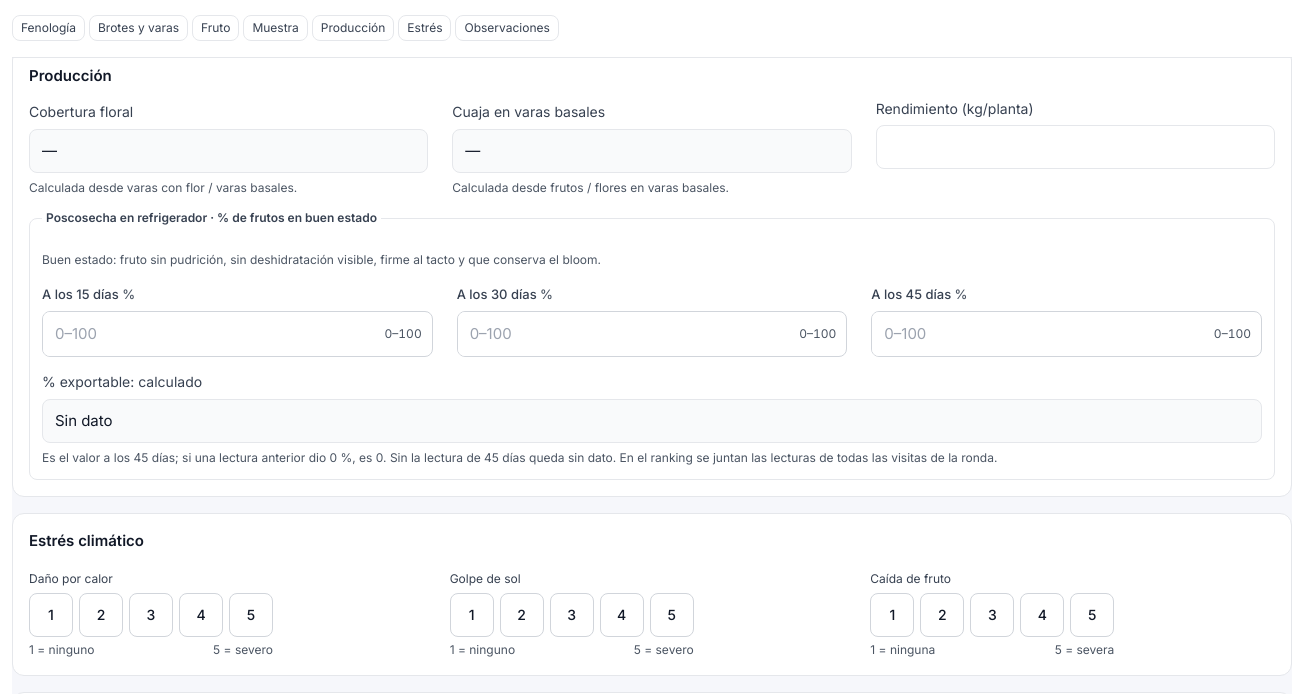
Test case: poscosecha: tres lecturas, el texto de «buen estado» y el exportable calculado (sin dato hasta los 45 días)
(page scrolled)
Expected: the text "Buen estado: fruto sin pudrición, sin deshidratación visible, firme al tacto y que conserva el bloom." is shown, x1=42 y1=252 x2=601 y2=267
Expected: the text "Sin dato" is shown, x1=42 y1=399 x2=1262 y2=443
Type "90" into the number field labelled "A los 15 días %". click: x=209, y=334
box: x1=43 y1=312 x2=374 y2=356
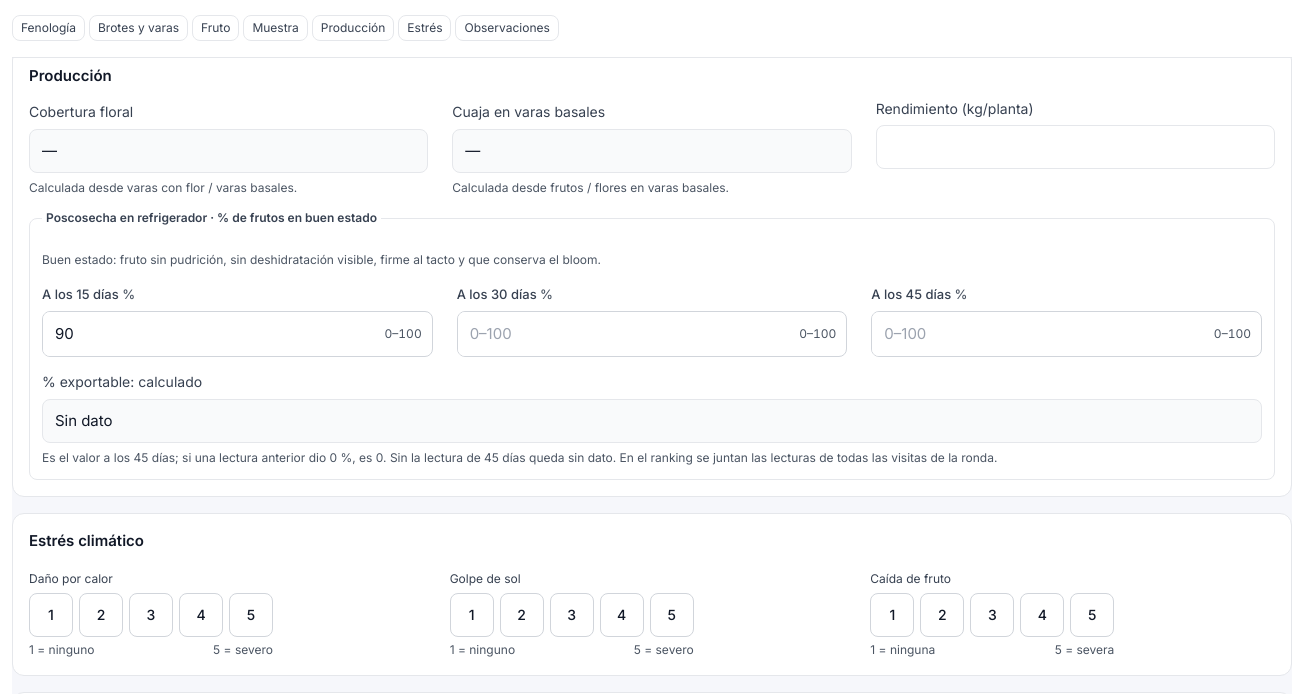
Expected: the text "Sin dato" is shown, x1=42 y1=399 x2=1262 y2=443
Type "72.5" into the number field labelled "A los 45 días %". click: x=1038, y=334
box: x1=872 y1=312 x2=1204 y2=356
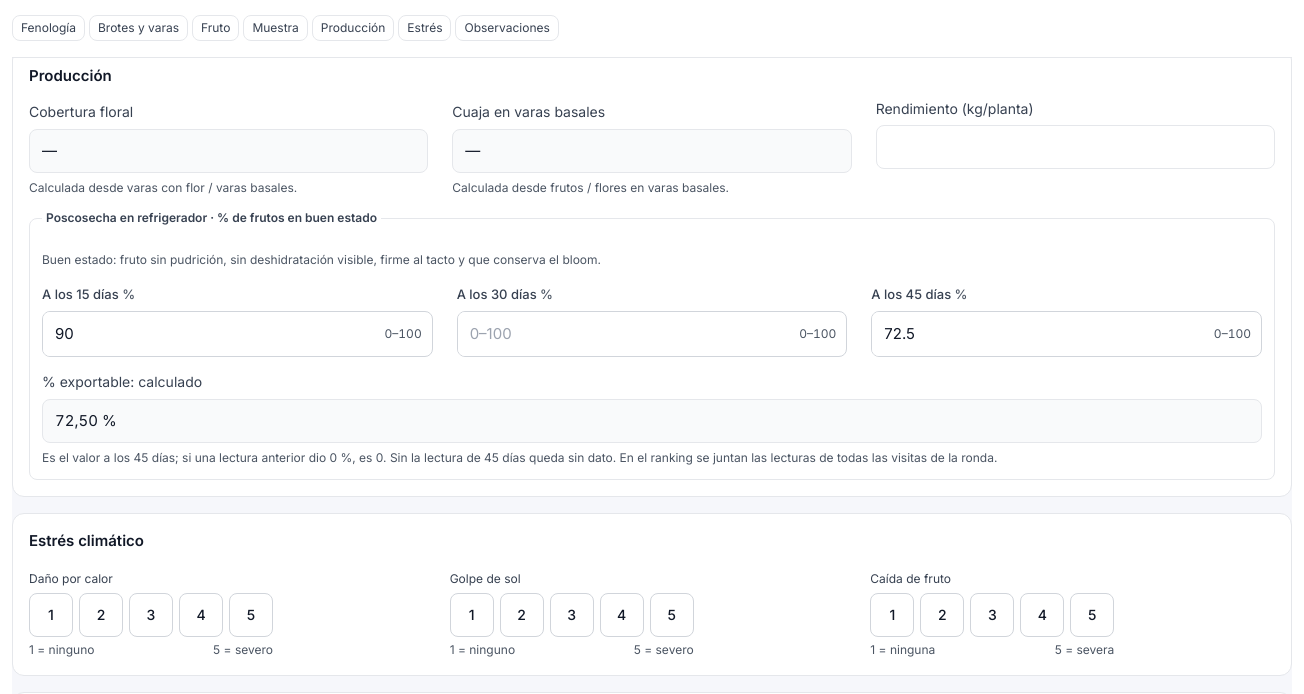
Now the text "72,50 %" is shown, box x1=42 y1=399 x2=1262 y2=443
Type "0" into the number field labelled "A los 30 días %". click: x=623, y=334
box: x1=458 y1=312 x2=789 y2=356
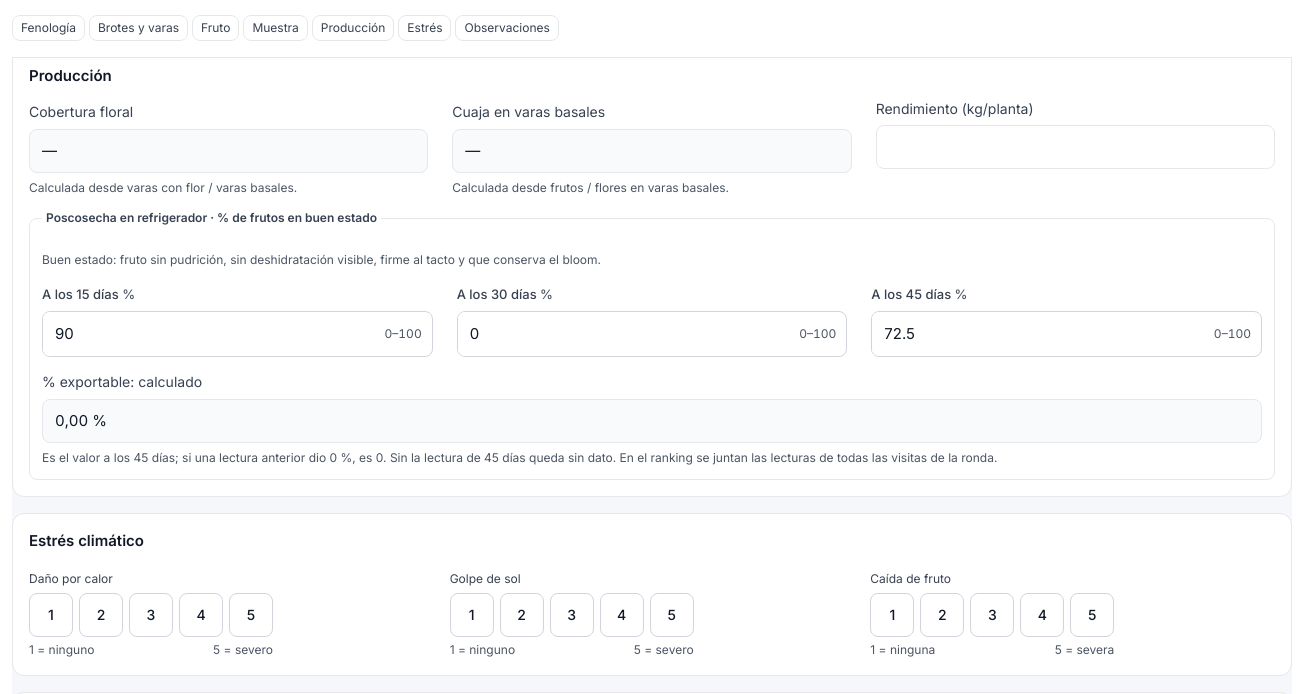
Now the text "0,00 %" is shown, box x1=42 y1=399 x2=1262 y2=443
